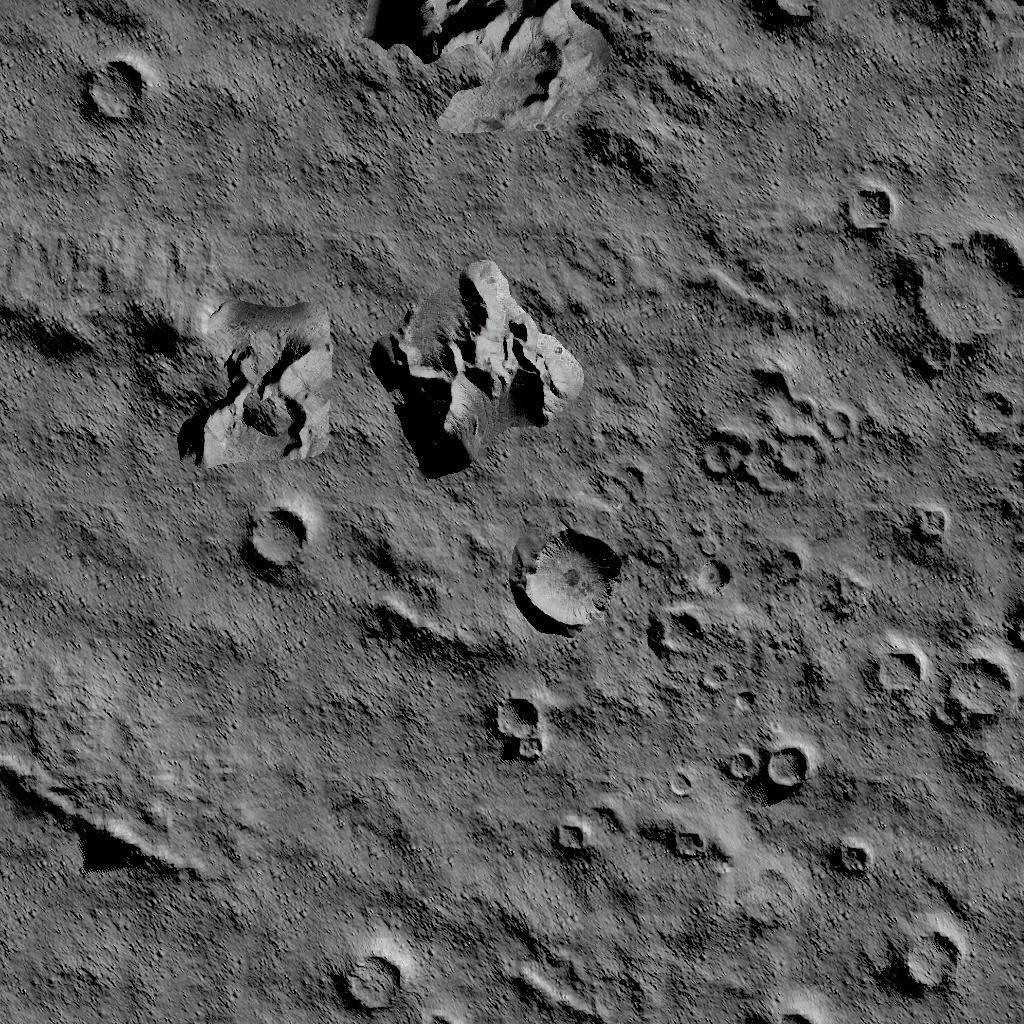Boulders: (0, 248, 339, 470), (375, 0, 689, 197), (380, 264, 584, 480), (0, 746, 203, 888), (358, 526, 494, 654)
Crater: (865, 598, 1024, 822), (680, 360, 856, 508), (905, 232, 1024, 444), (510, 514, 628, 642), (338, 926, 470, 1024), (239, 490, 326, 592), (648, 552, 728, 656), (884, 917, 972, 1010), (71, 52, 153, 139), (720, 730, 812, 800), (482, 684, 550, 760), (834, 178, 898, 253), (734, 0, 828, 47), (724, 978, 818, 1024), (664, 814, 715, 866), (826, 835, 874, 890), (904, 498, 953, 550), (546, 812, 590, 856)
Plan surface: (228, 668, 464, 890), (6, 500, 220, 695), (4, 909, 314, 1024), (194, 6, 348, 228), (727, 68, 1024, 164)
